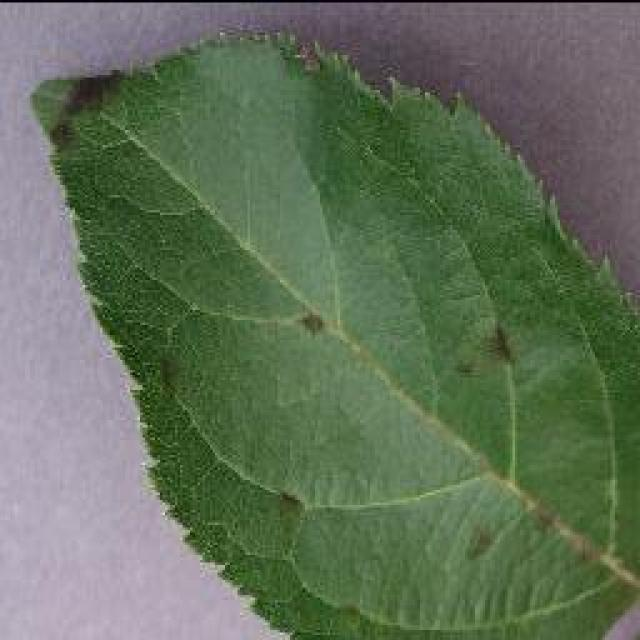apple scab disease: (28, 25, 638, 637)
